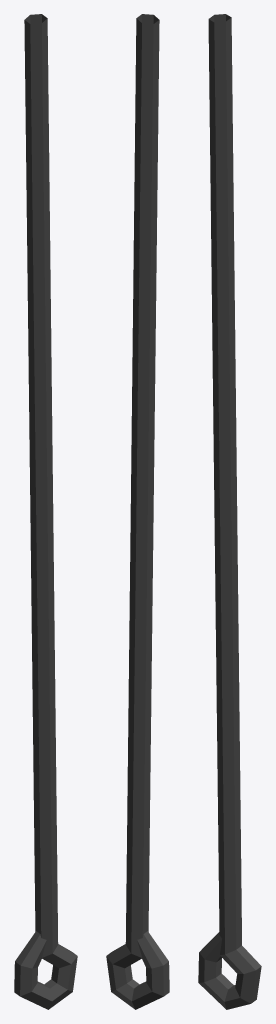
File: rope_4.FBX
3 views of the same model, side by side, from view 1: azimuth 30°, elevation 25°; view 2: azimuth 150°, elevation 25°; view 3: azimuth 330°, elevation 25° (orthographic).
Parts seen in each view (by area): view 1: rope_4; view 2: rope_4; view 3: rope_4.
Part boxes in pixels (x1,y1,x2,y2): rope_4: (14,14,77,1009); rope_4: (106,14,169,1009); rope_4: (198,14,261,1009).
Size of the model in its own units: 2.87 by 47.08 by 1.
